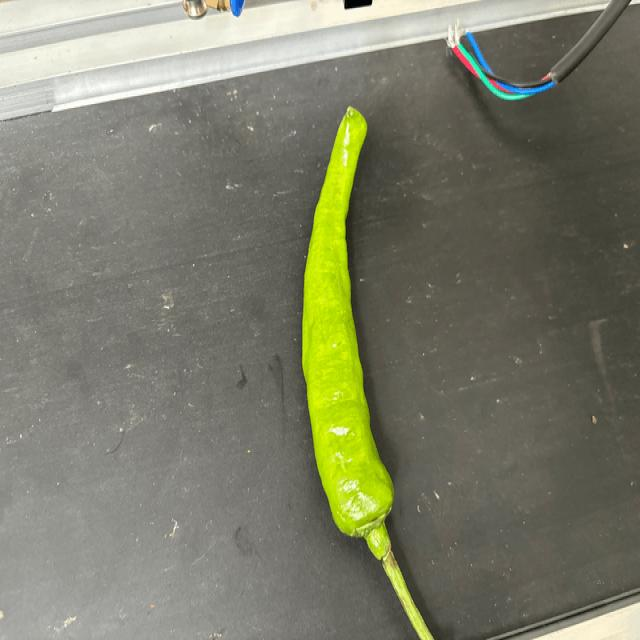chili: (302, 103, 395, 541)
